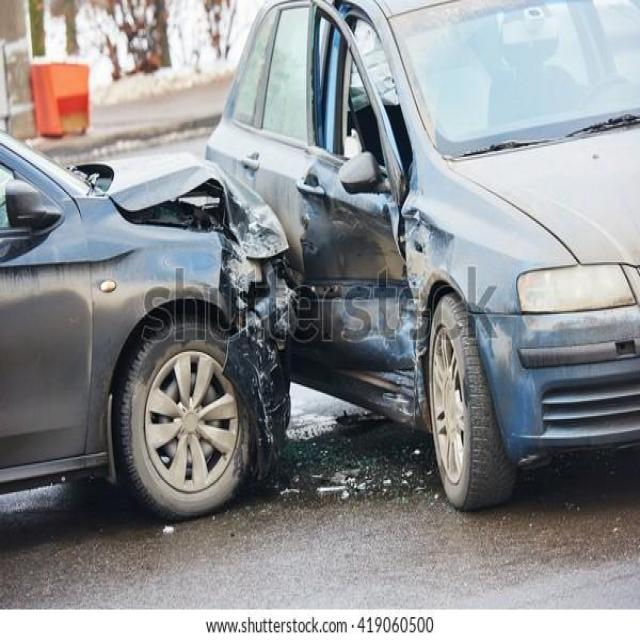accident: (0, 0, 625, 514)
